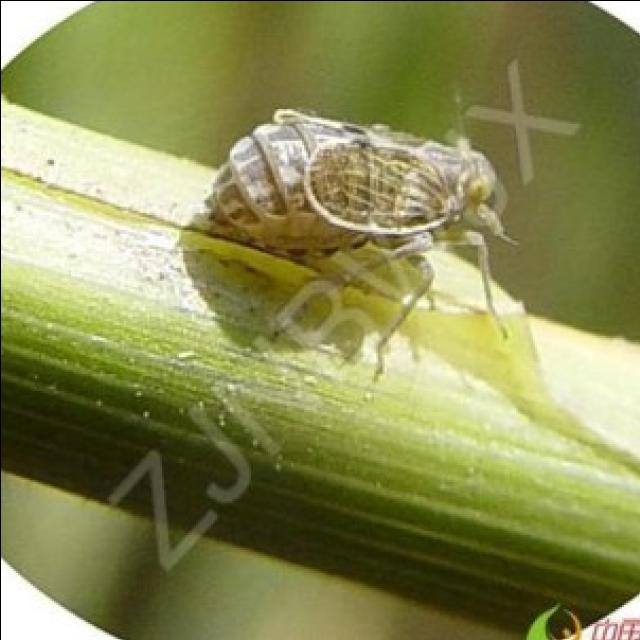brown plant hopper: (189, 108, 511, 377)
